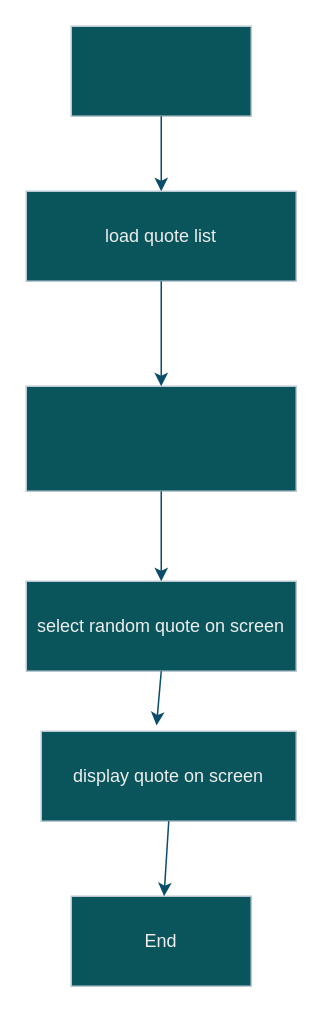
The diagram is 323 pixels wide and 1013 high, and some of its shapes have lost their labels. Each missing label, with the box of its shape:
Start: (70, 25, 251, 116)
use clicks to generate quotes: (25, 385, 296, 491)
